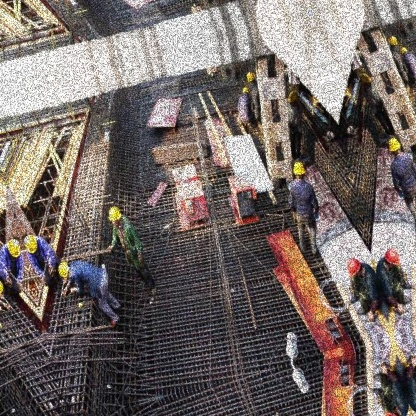red: (343, 254, 365, 279)
yellow: (21, 230, 42, 257), (55, 257, 75, 284), (104, 201, 125, 224), (290, 158, 309, 177), (284, 88, 299, 104), (244, 68, 256, 82), (242, 85, 251, 96)
